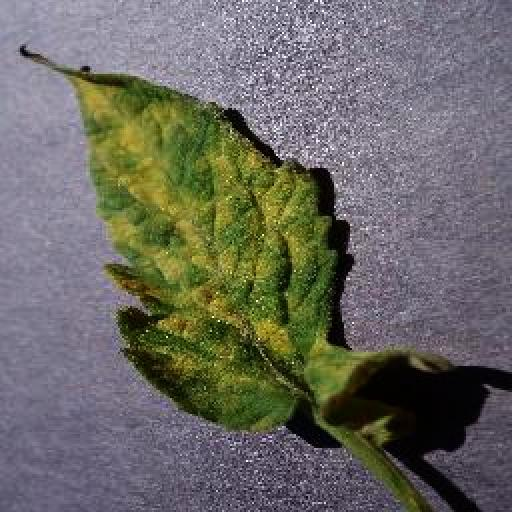disease_tomato: (20, 46, 450, 430)
